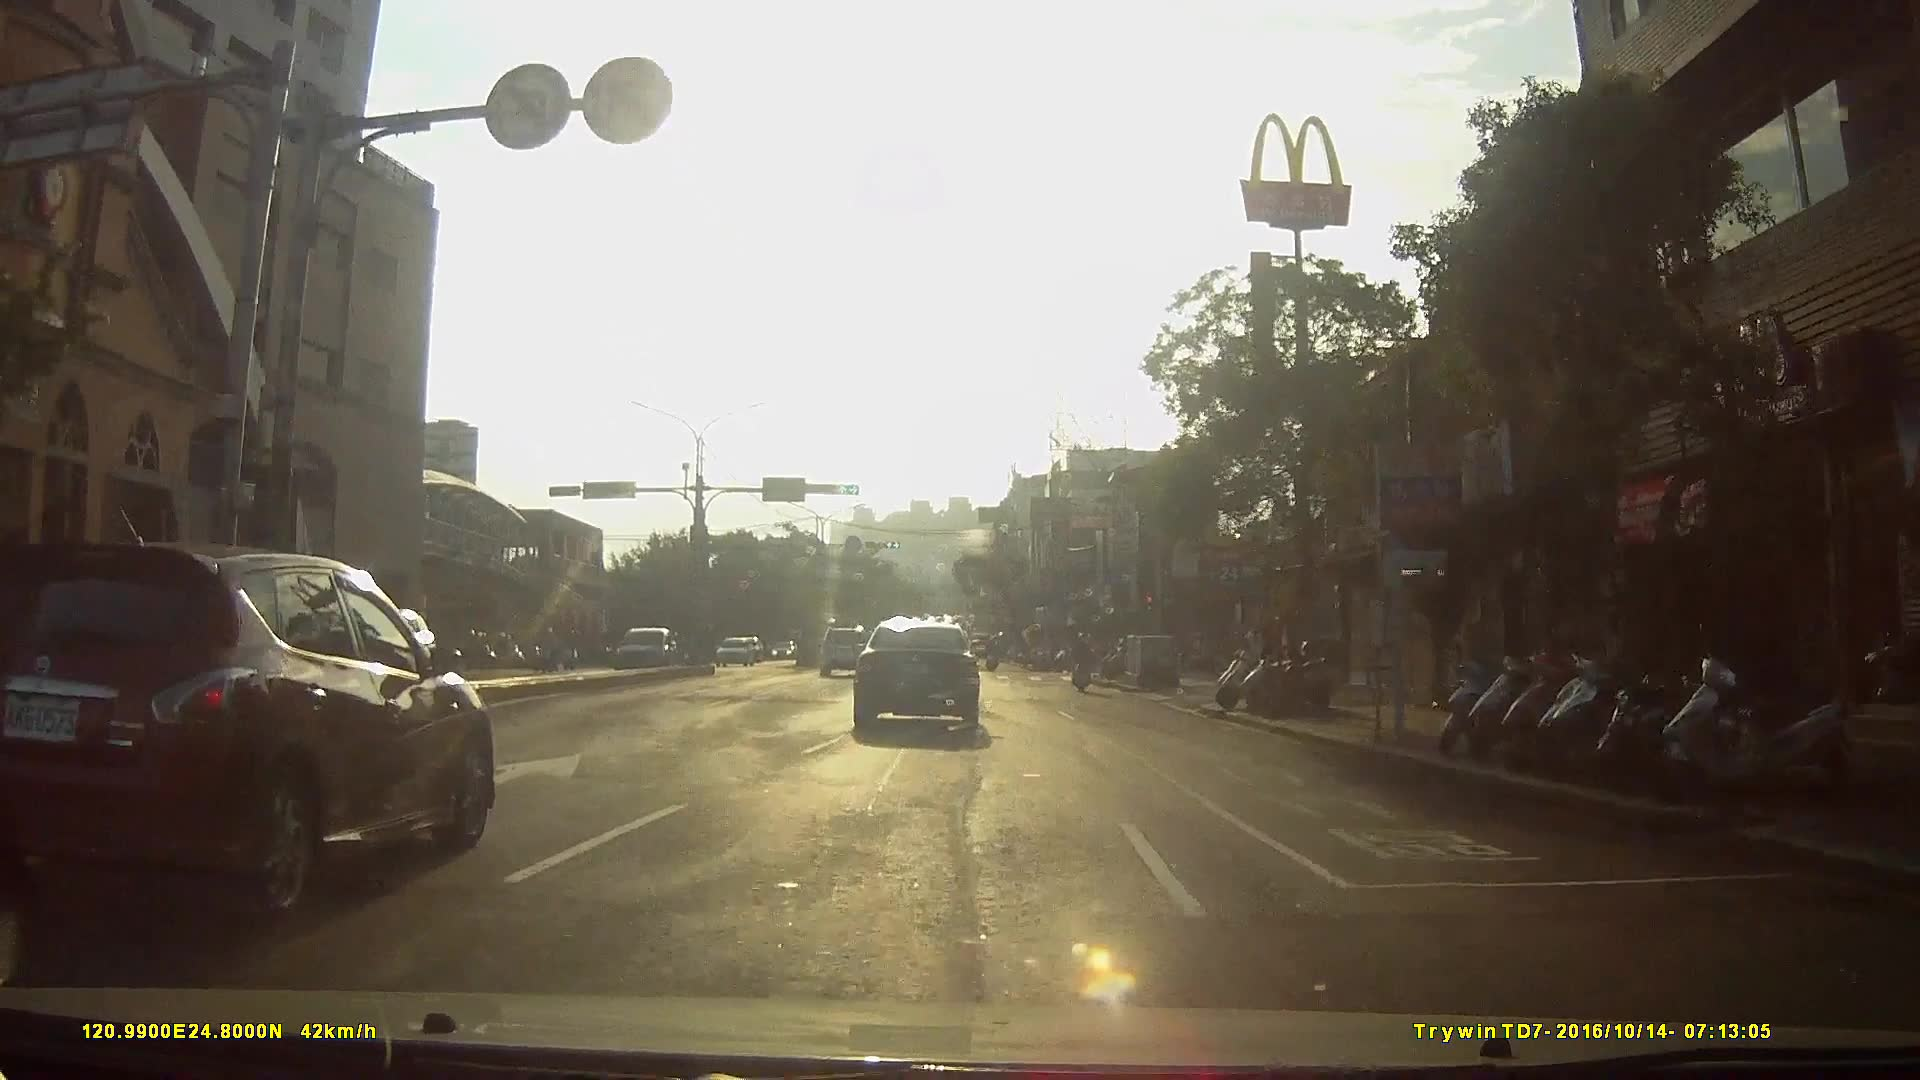rider: (1069, 629, 1094, 695), (983, 639, 1003, 675)
vehicle: (2, 532, 506, 928), (847, 610, 993, 734), (600, 622, 680, 675), (814, 624, 871, 679), (711, 634, 760, 670)
